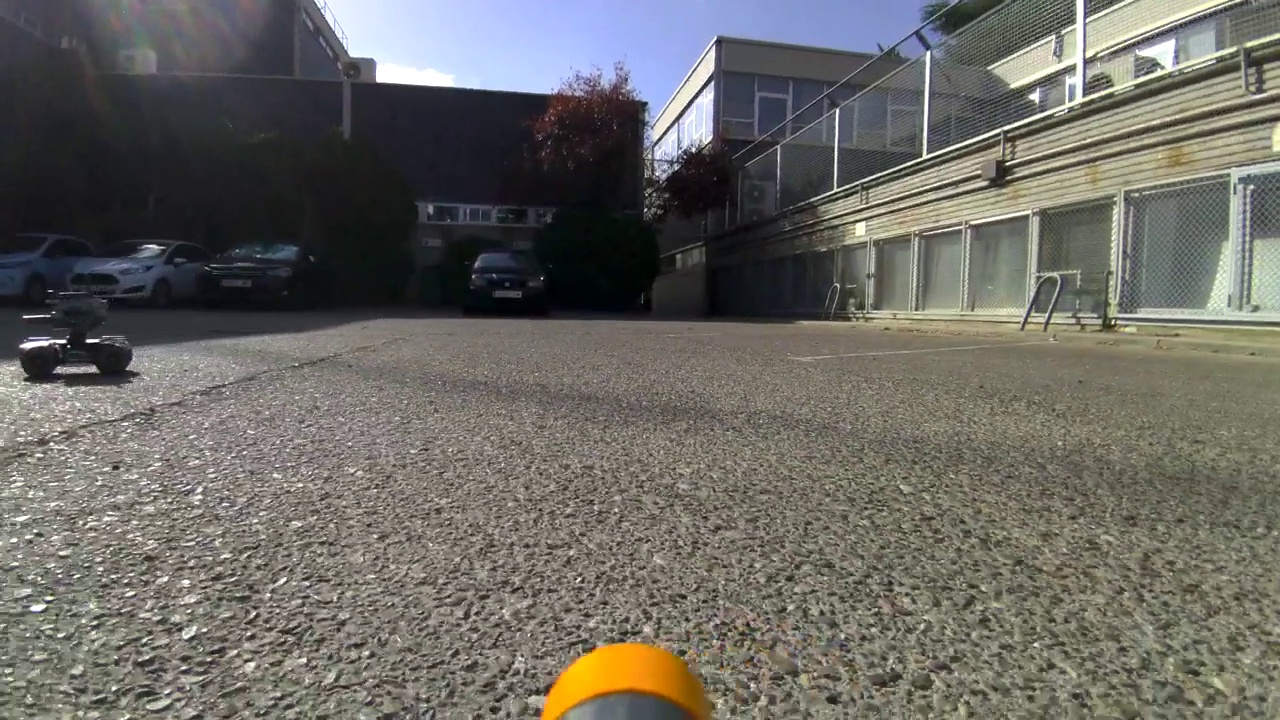robot: (9, 280, 142, 377)
